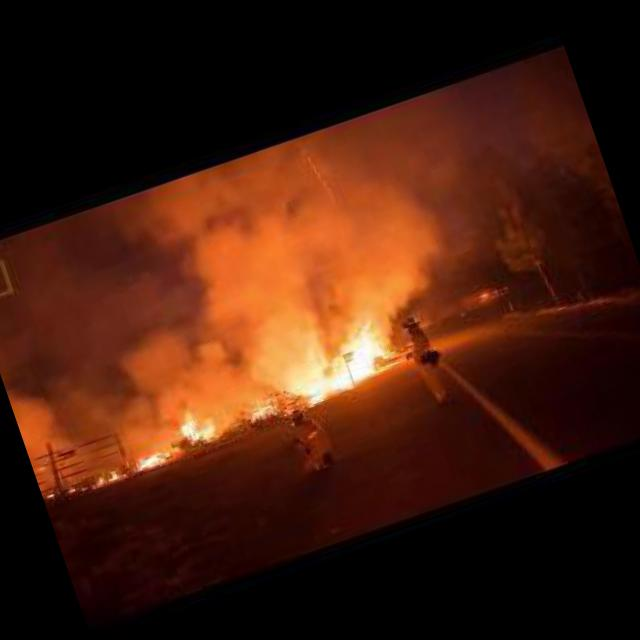fire: (286, 318, 394, 406), (179, 401, 226, 446), (67, 468, 120, 494), (132, 448, 168, 474)
smoke: (88, 144, 460, 422)
